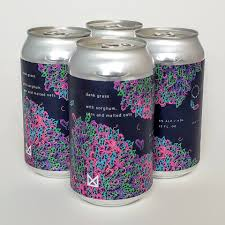can: (65, 36, 159, 211), (21, 22, 92, 178), (133, 26, 202, 181)
